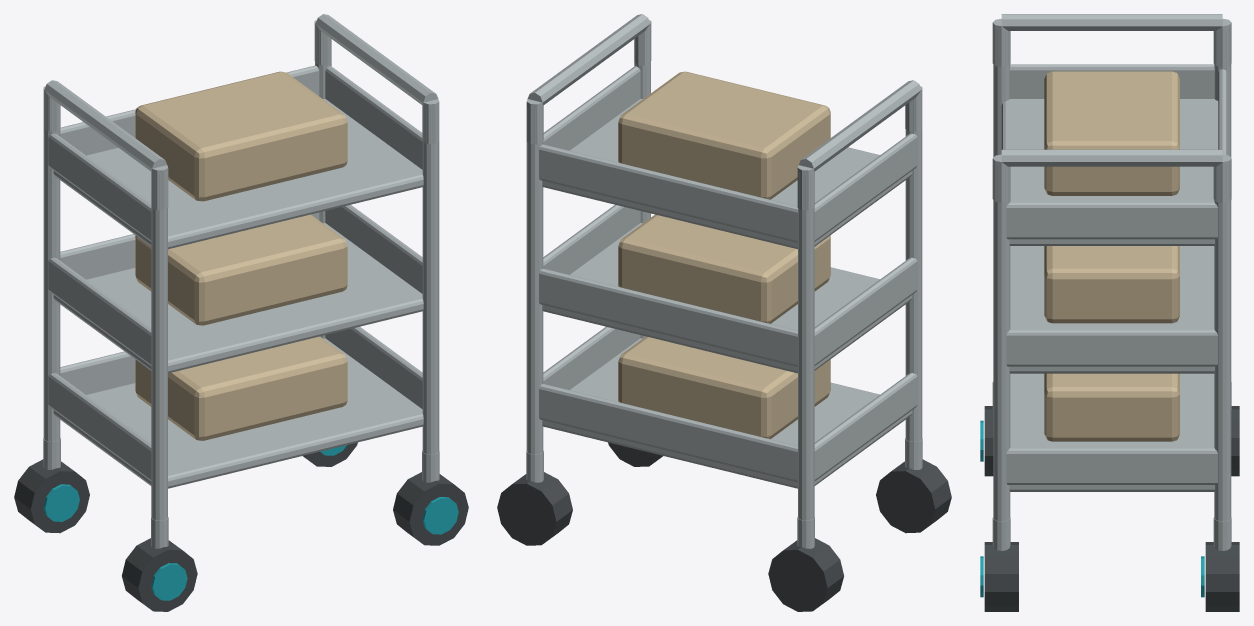
File: supply_cart_starter.glb
The picture shows the model from 3 angles, left to right: view 1: azimuth 30°, elevation 25°; view 2: azimuth 150°, elevation 25°; view 3: azimuth 270°, elevation 25°; orthographic projection. The views are drawn at different scales.
Visible parts, largest first — view 1: STATIC_metal.004, STATIC_beige, STATIC_rubber.004, STATIC_teal.004; view 2: STATIC_metal.004, STATIC_beige, STATIC_rubber.004; view 3: STATIC_metal.004, STATIC_beige, STATIC_rubber.004, STATIC_teal.004.
Boxes of the visible parts, x1=… form: STATIC_metal.004: x1=43, y1=14, x2=439, y2=548; STATIC_beige: x1=135, y1=71, x2=347, y2=440; STATIC_rubber.004: x1=14, y1=442, x2=468, y2=611; STATIC_teal.004: x1=43, y1=445, x2=458, y2=600; STATIC_metal.004: x1=526, y1=14, x2=922, y2=548; STATIC_beige: x1=618, y1=71, x2=830, y2=438; STATIC_rubber.004: x1=497, y1=442, x2=951, y2=611; STATIC_metal.004: x1=992, y1=14, x2=1231, y2=550; STATIC_beige: x1=1044, y1=71, x2=1179, y2=441; STATIC_rubber.004: x1=984, y1=406, x2=1239, y2=611; STATIC_teal.004: x1=980, y1=420, x2=1204, y2=597.
Size of the model in its own units: 0.78 by 1.01 by 0.517.
